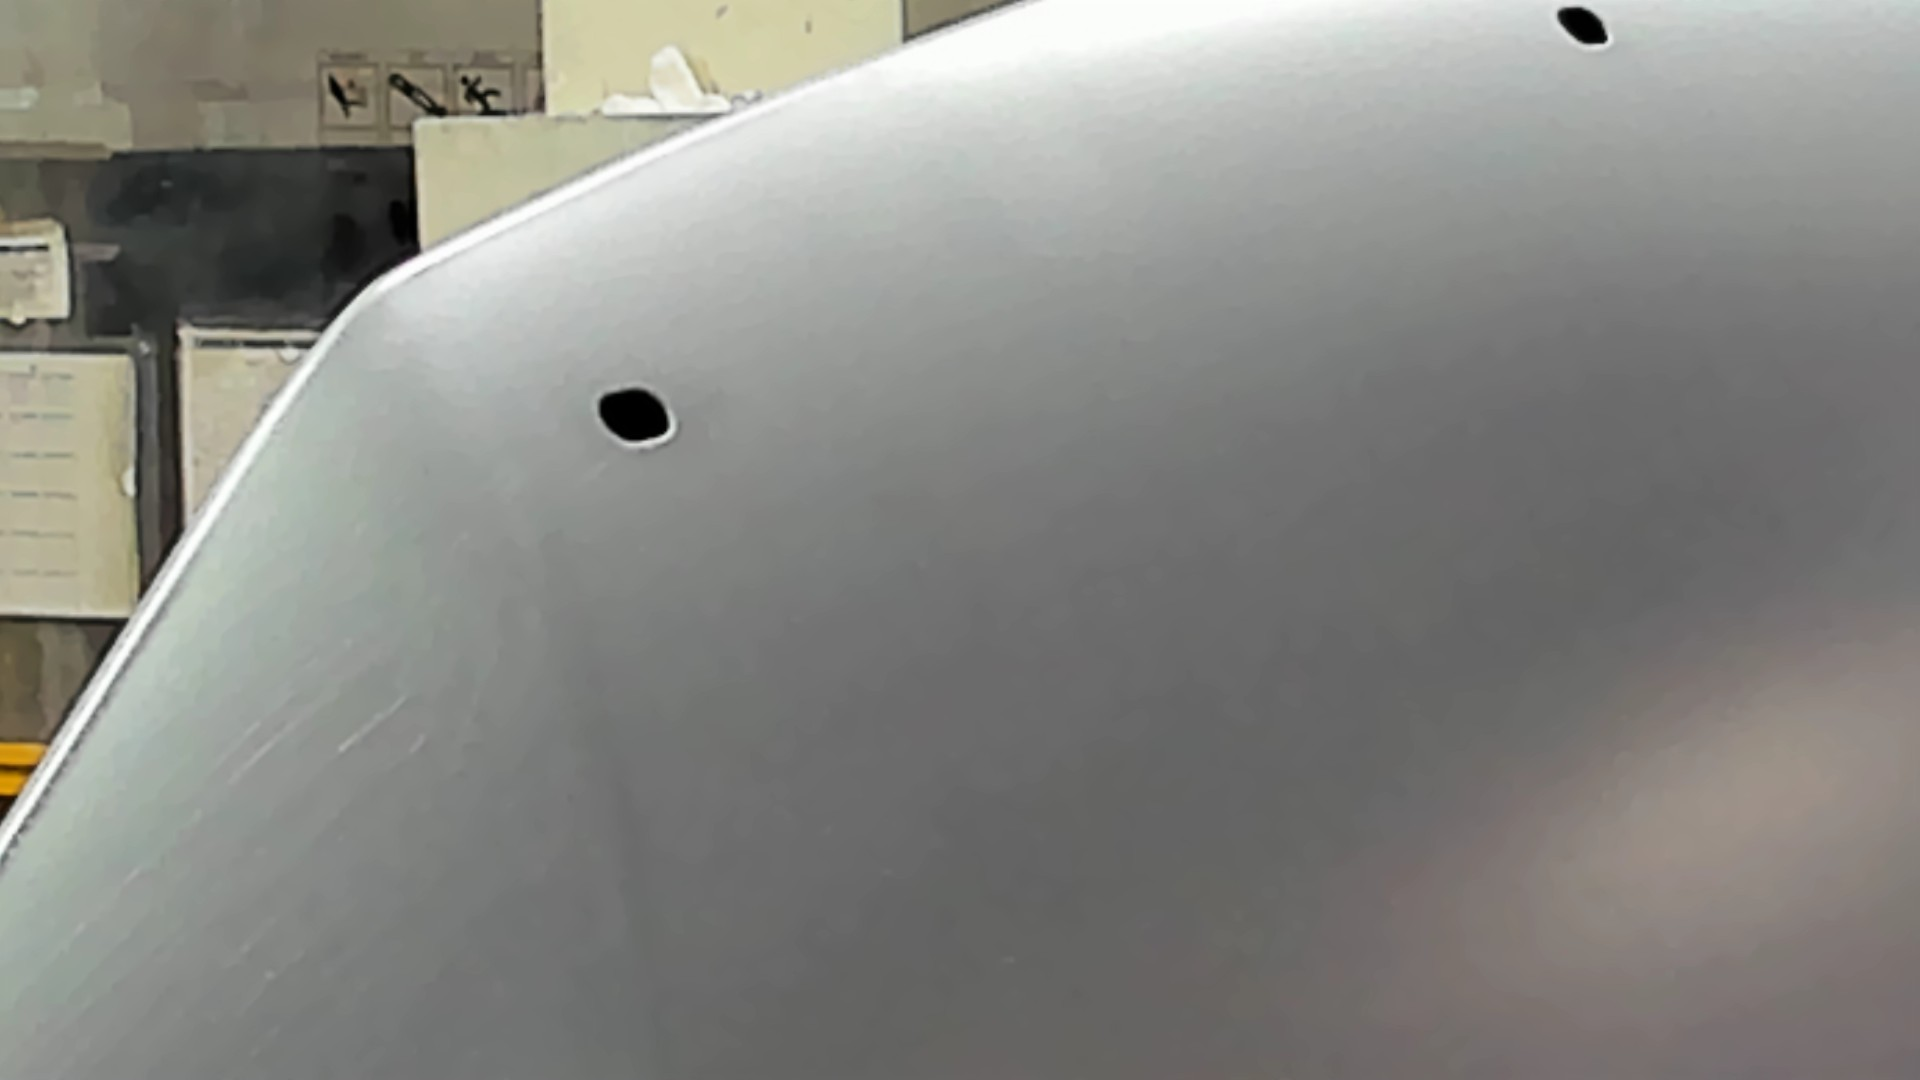amorfo: (580, 385, 687, 458), (1547, 1, 1625, 67)
capo: (785, 164, 1920, 1080)
